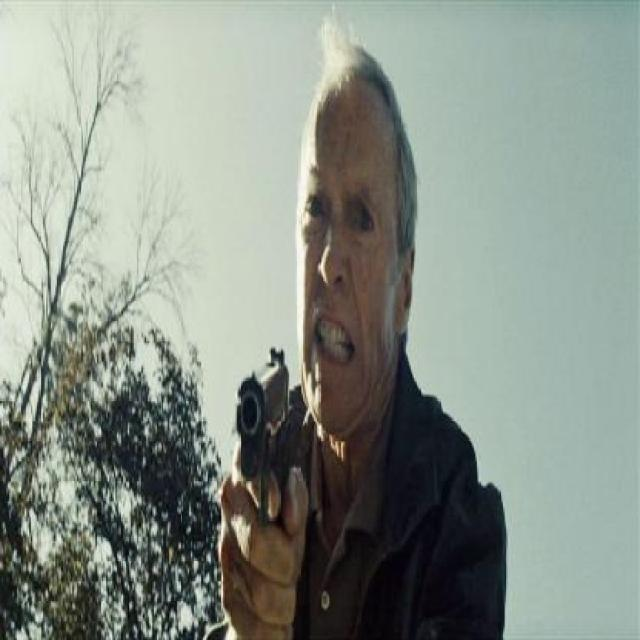gun: (223, 284, 297, 520)
